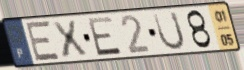2: (120, 13, 152, 56)
8: (186, 9, 213, 50)
E: (86, 15, 124, 58), (24, 20, 62, 63)
U: (151, 10, 187, 52)
X: (49, 19, 90, 60)
